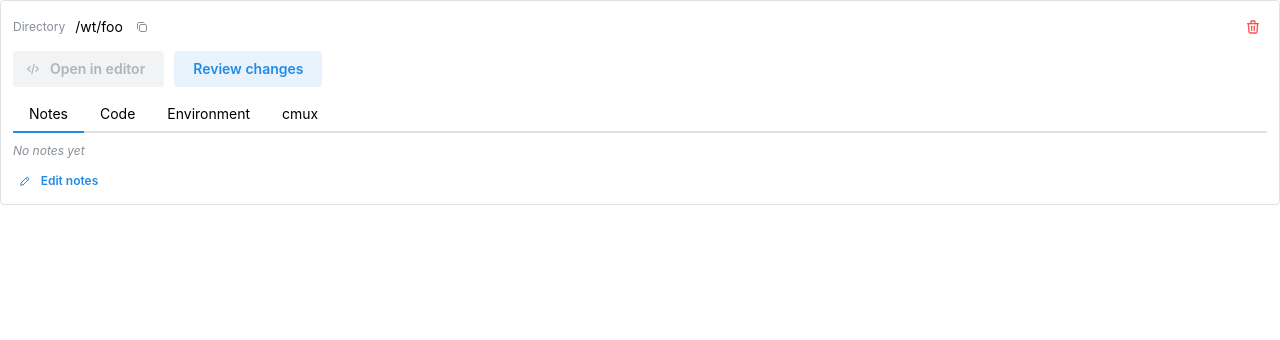
Code tab summary › flags a failed fetch with a warning icon
The width and height of the screenshot is (1280, 340).
Click the tab "Code".
click(118, 115)  # box [84,97,151,133]
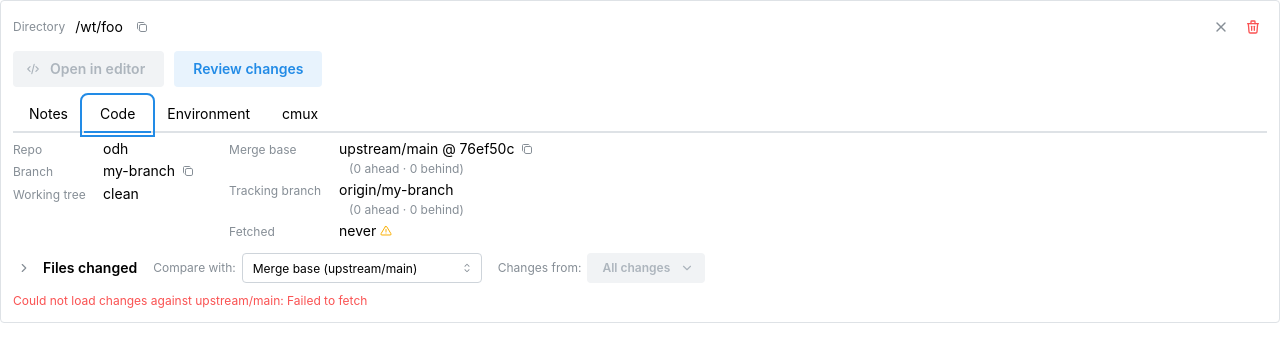
Check: the icon named "Last fetch failed" is shown, box [380,225,392,237]
